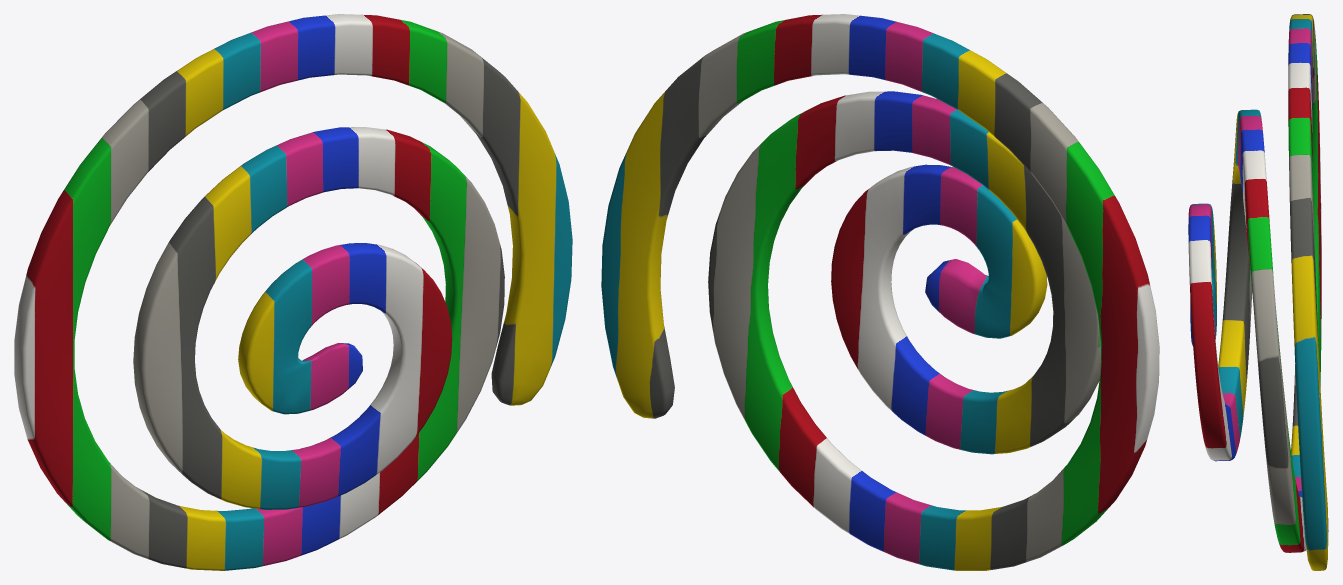
Rendered from B-2_Onstick.fbx.
The picture shows the model from 3 angles, left to right: view 1: azimuth 30°, elevation 25°; view 2: azimuth 150°, elevation 25°; view 3: azimuth 270°, elevation 25°; orthographic projection. The views are drawn at different scales.
Parts seen in each view (by area): view 1: B-2; view 2: B-2; view 3: B-2.
Part boxes in pixels (<box>): B-2: <box>14,14,572,570</box>; B-2: <box>601,14,1159,570</box>; B-2: <box>1188,14,1328,570</box>.
Size of the model in its own units: 106 by 24.77 by 97.57.
